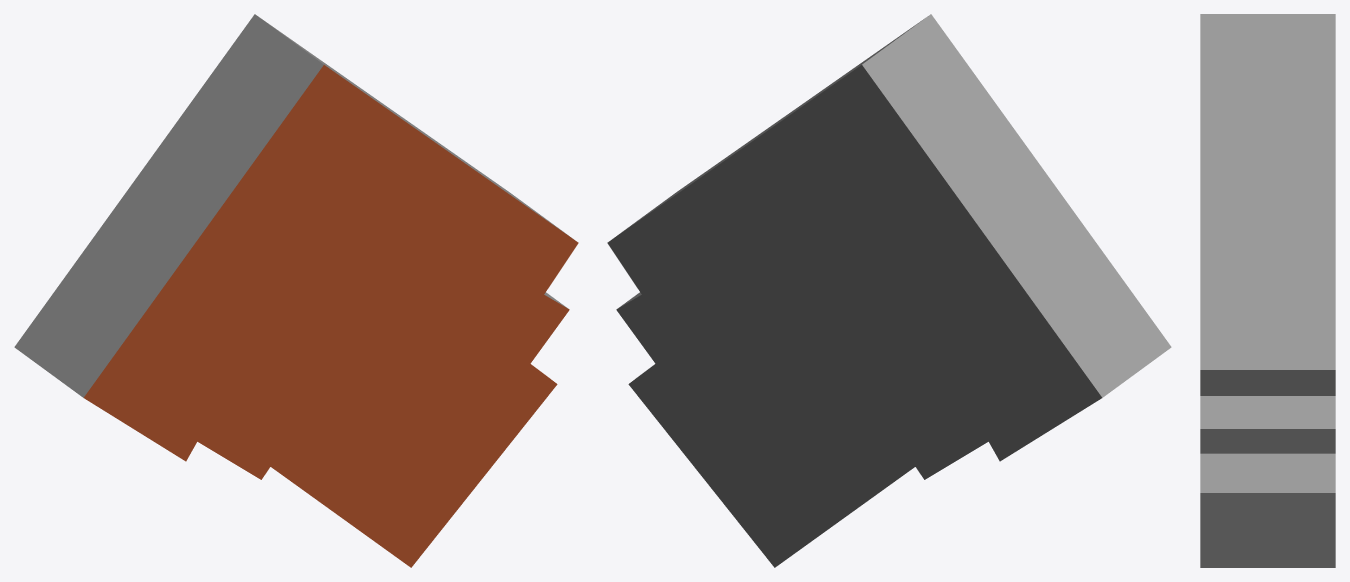
The model's file is construction_0836_assumed_A_Casa_h6m.obj.
3 views of the same model, side by side, from view 1: azimuth 30°, elevation 25°; view 2: azimuth 150°, elevation 25°; view 3: azimuth 270°, elevation 25° (orthographic). The views are drawn at different scales.
Parts seen in each view (by area): view 1: construction_0836_assumed_A_Casa; view 2: construction_0836_assumed_A_Casa; view 3: construction_0836_assumed_A_Casa.
Part boxes in pixels (left/top/right/bottom): construction_0836_assumed_A_Casa: left=14, top=14, right=578, bottom=567; construction_0836_assumed_A_Casa: left=607, top=14, right=1171, bottom=567; construction_0836_assumed_A_Casa: left=1200, top=14, right=1335, bottom=567.
Size of the model in its own units: 24.77 by 25.07 by 6.
